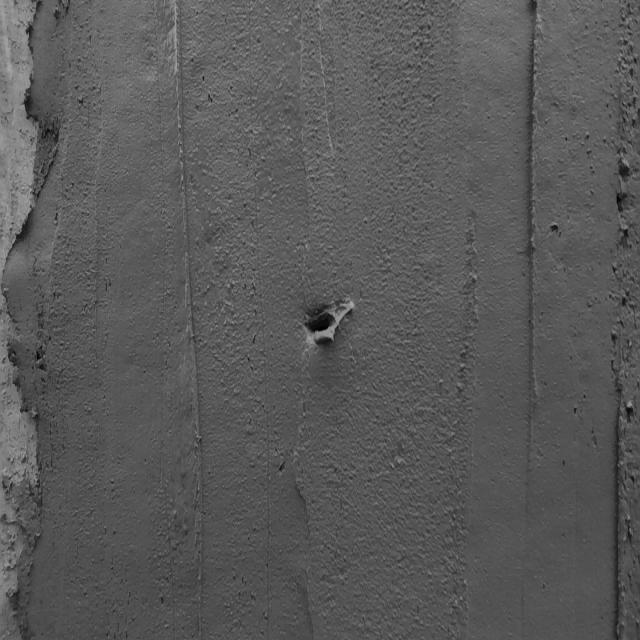trowels marks: (166, 2, 214, 639), (608, 12, 640, 640), (519, 4, 544, 542), (287, 346, 325, 640), (458, 199, 480, 640)
